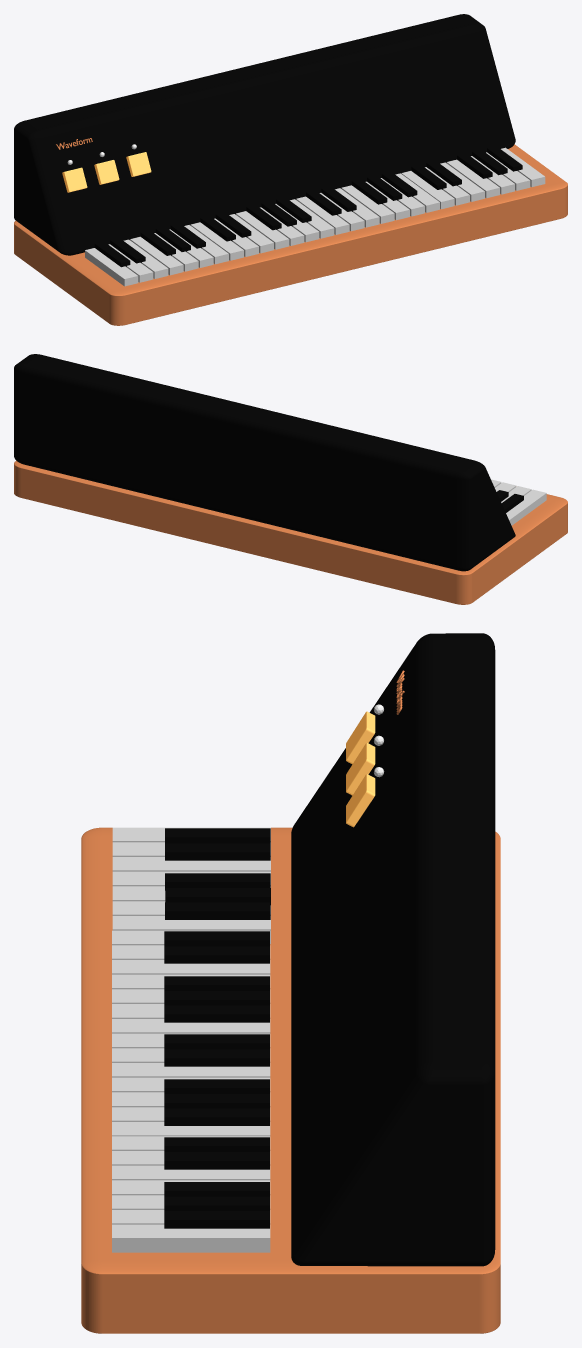
The model's file is synth.gltf.
The picture shows the model from 3 angles, top to bottom: view 1: azimuth 30°, elevation 25°; view 2: azimuth 150°, elevation 25°; view 3: azimuth 270°, elevation 25°; orthographic projection. The views are drawn at different scales.
Parts seen in each view (by area): view 1: zCube.010, zCube.009, C.000, F.002, F.000, F.001, F.003, C.002, C.001, C.003, E.000, E.002 (+33 smaller); view 2: zCube.010, zCube.009, C.000; view 3: zCube.010, zCube.009, B.003, E.003, E.000, B.001, E.001, E.002, B.000, B.002, D#.000, A#.000 (+31 smaller).
Part boxes in pixels (<box>): zCube.010: <box>14,14,515,255</box>; zCube.009: <box>14,144,567,325</box>; C.000: <box>85,248,138,286</box>; F.002: <box>341,185,394,223</box>; F.000: <box>130,236,183,275</box>; F.001: <box>236,211,289,249</box>; F.003: <box>446,159,499,198</box>; C.002: <box>296,196,349,234</box>; C.001: <box>190,222,243,260</box>; C.003: <box>401,171,454,209</box>; E.000: <box>123,239,168,278</box>; E.002: <box>335,188,379,227</box>; zCube.010: <box>14,354,515,571</box>; zCube.009: <box>14,460,567,604</box>; C.000: <box>506,489,546,525</box>; zCube.010: <box>291,633,495,1266</box>; zCube.009: <box>81,827,500,1333</box>; B.003: <box>112,1224,270,1252</box>; E.003: <box>112,1165,270,1180</box>; E.000: <box>112,857,270,871</box>; B.001: <box>112,1019,270,1033</box>; E.001: <box>112,960,270,974</box>; E.002: <box>112,1063,270,1077</box>; B.000: <box>112,916,270,943</box>; B.002: <box>112,1122,270,1136</box>; D#.000: <box>165,843,270,860</box>; A#.000: <box>165,902,270,919</box>.
Size of the model in its own units: 2 by 0.5495 by 0.7941.
